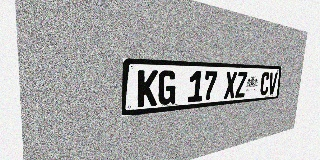1: (188, 71, 204, 102)
7: (202, 71, 217, 101)
C: (259, 72, 270, 96)
G: (157, 70, 177, 105)
K: (137, 70, 158, 107)
V: (268, 72, 278, 95)
X: (224, 71, 237, 99)
Z: (235, 72, 247, 98)
